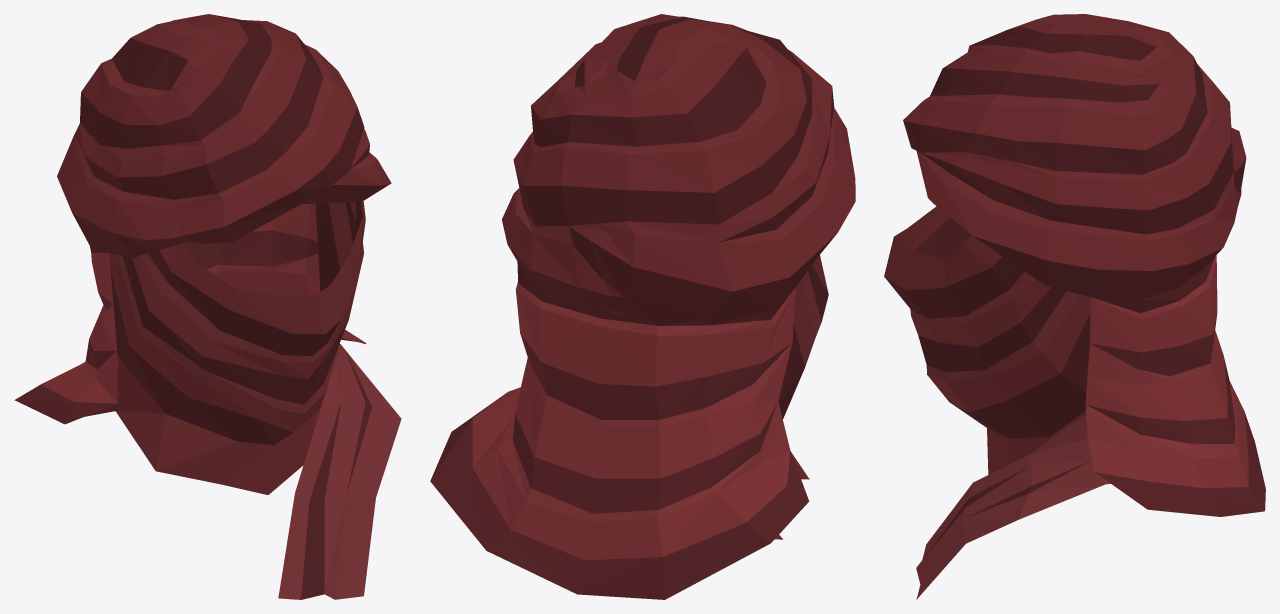
The model's file is desertTurbanCoveringColor.glb.
The picture shows the model from 3 angles, left to right: view 1: azimuth 30°, elevation 25°; view 2: azimuth 150°, elevation 25°; view 3: azimuth 270°, elevation 25°; orthographic projection. The views are drawn at different scales.
Parts seen in each view (by area): view 1: desertTurbanCoveringColor; view 2: desertTurbanCoveringColor; view 3: desertTurbanCoveringColor.
Boxes of the visible parts, x1,y1,x2,y2 form: desertTurbanCoveringColor: (14,14,401,599); desertTurbanCoveringColor: (430,14,855,599); desertTurbanCoveringColor: (884,14,1265,599).
Size of the model in its own units: 0.3603 by 0.5639 by 0.3595.
